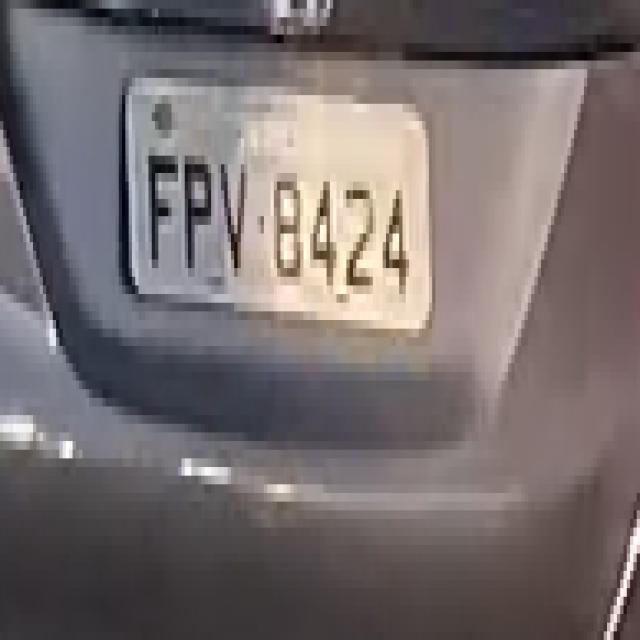Placa_mercosul_carro: (119, 70, 429, 331)
